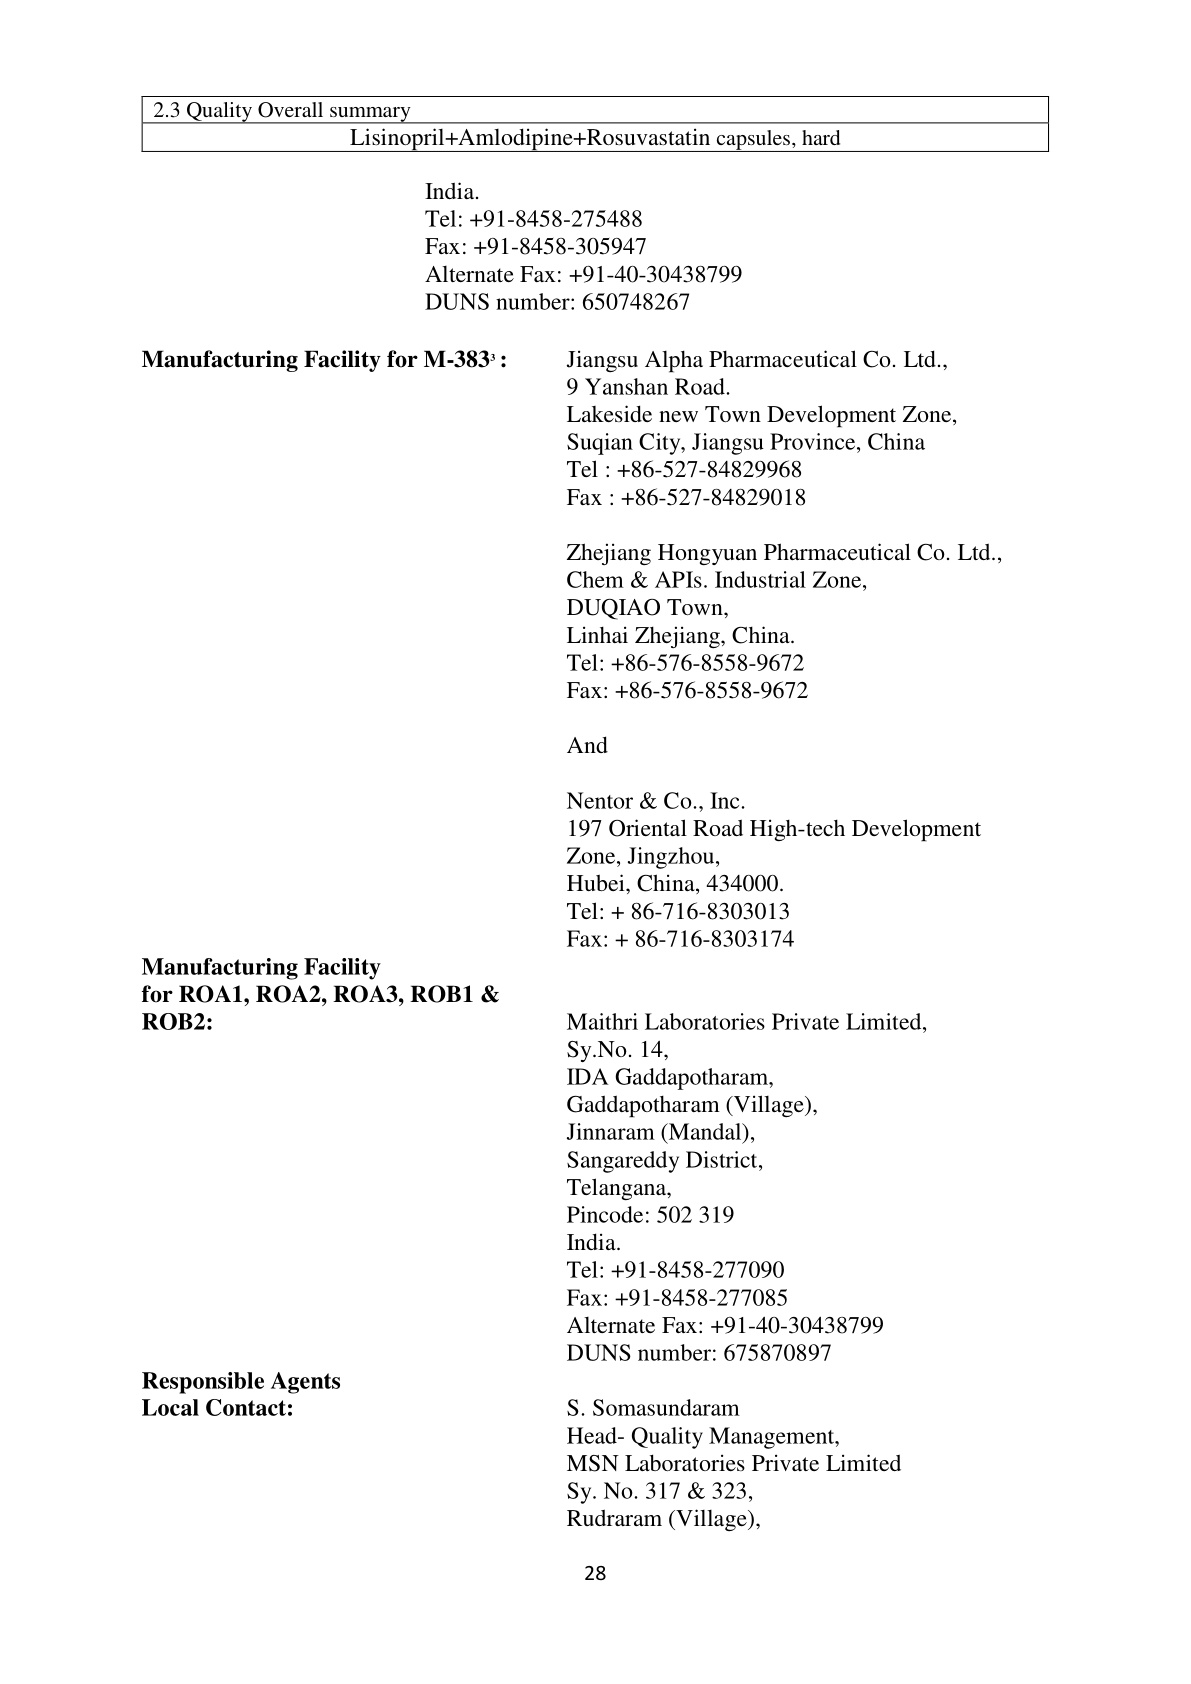full_lined: (140, 97, 1051, 153)
nolines: (140, 340, 1014, 1547)
